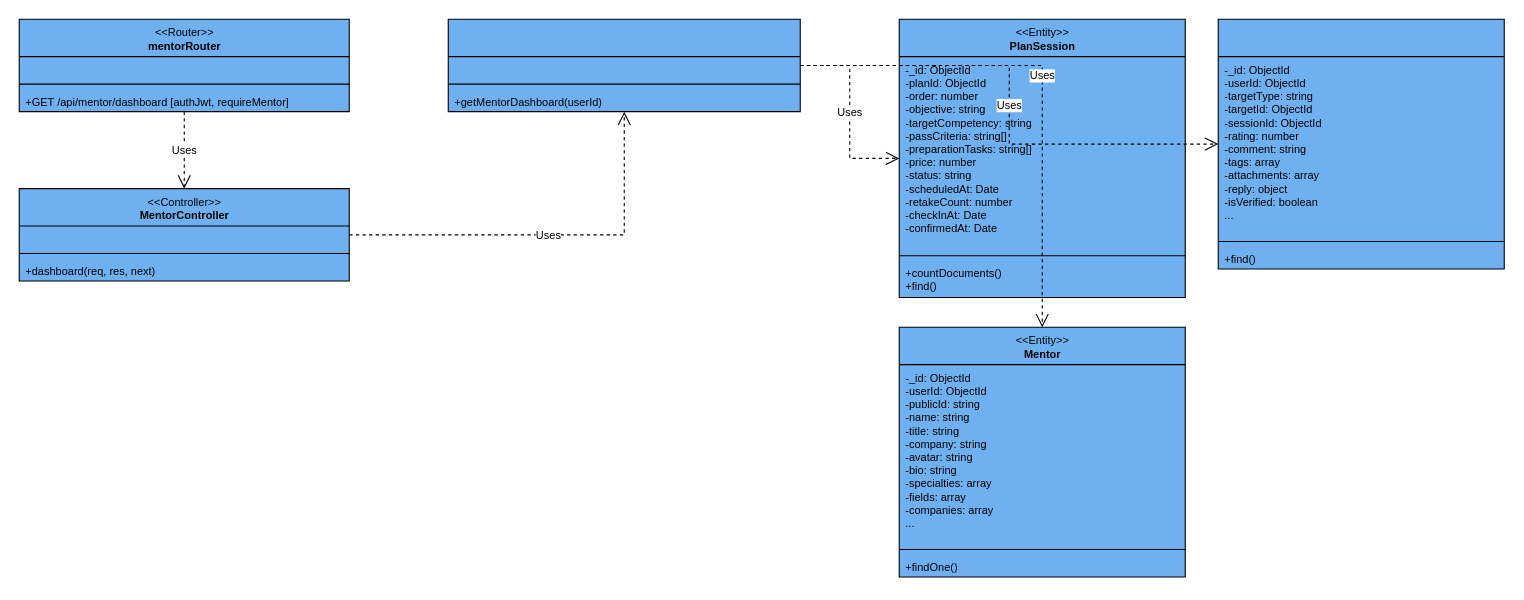
The diagram is 1524 pixels wide and 600 high, and some of its shapes have lost their labels. Each missing label, with the box of its shape:
<<Entity>> Review: (1217, 18, 1504, 269)
<<Service>> MentorDashboardService: (447, 18, 800, 112)
